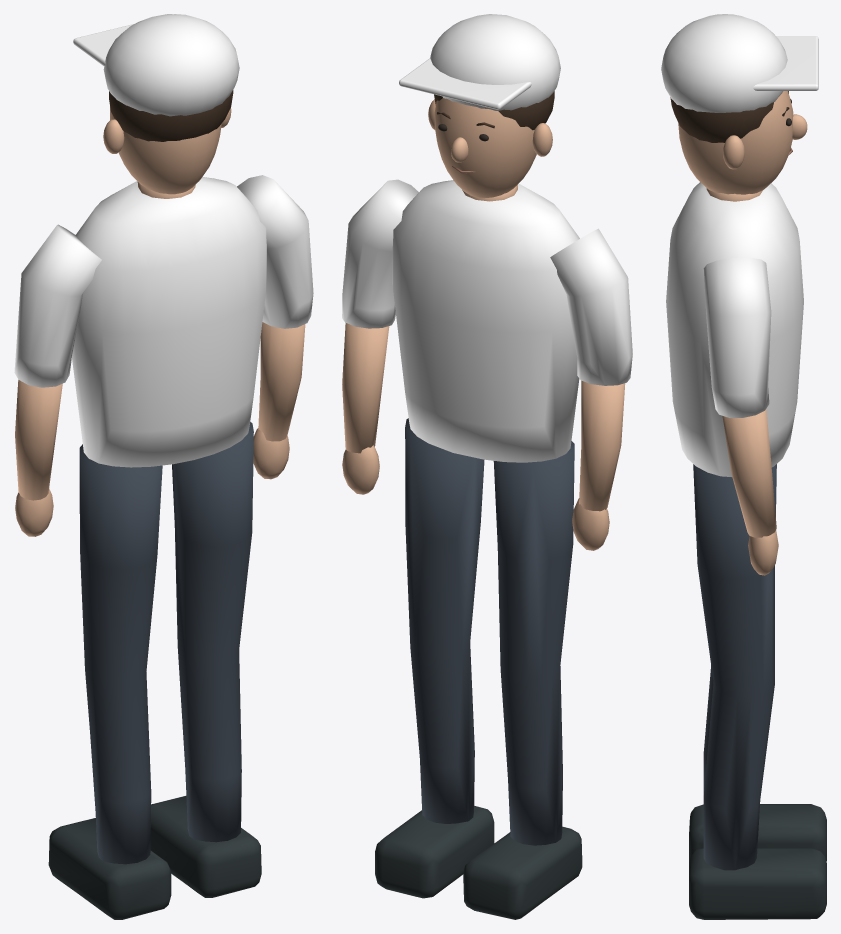
Rendered from owner.glb.
3 renders of one model, left to right at view 1: azimuth 30°, elevation 25°; view 2: azimuth 150°, elevation 25°; view 3: azimuth 270°, elevation 25°, orthographic. The views are drawn at different scales.
Parts seen in each view (by area): view 1: ShirtTorso, Leg_L, Leg_R, Arm_L, Arm_R, CapCrown, Head, Hair, CapBrim; view 2: ShirtTorso, Leg_L, Leg_R, Arm_L, Arm_R, CapCrown, Head, CapBrim, Hair; view 3: Leg_R, ShirtTorso, Arm_R, CapCrown, Head, Leg_L, Hair, CapBrim, Ear_R.
Boxes of the visible parts, x1,y1,x2,y2 form: ShirtTorso: [72, 177, 266, 467]; Leg_L: [48, 444, 171, 919]; Leg_R: [150, 422, 261, 897]; Arm_L: [14, 224, 101, 536]; Arm_R: [237, 175, 313, 479]; CapCrown: [103, 14, 239, 116]; Head: [110, 106, 221, 198]; Hair: [109, 90, 233, 141]; CapBrim: [73, 14, 175, 66]; ShirtTorso: [392, 180, 579, 462]; Leg_L: [463, 441, 582, 919]; Leg_R: [375, 418, 494, 898]; Arm_L: [550, 228, 632, 550]; Arm_R: [342, 179, 418, 494]; CapCrown: [430, 14, 560, 110]; Head: [434, 98, 536, 201]; CapBrim: [399, 58, 531, 109]; Hair: [434, 91, 554, 130]; Leg_R: [689, 464, 826, 919]; ShirtTorso: [666, 182, 803, 476]; Arm_R: [703, 257, 778, 575]; CapCrown: [661, 14, 787, 112]; Head: [678, 91, 793, 201]; Leg_L: [689, 665, 826, 861]; Hair: [670, 97, 773, 142]; CapBrim: [753, 36, 818, 90]; Ear_R: [723, 135, 744, 169].
Bounding box in the file's own units: 0.5395 × 1.55 × 0.269.
